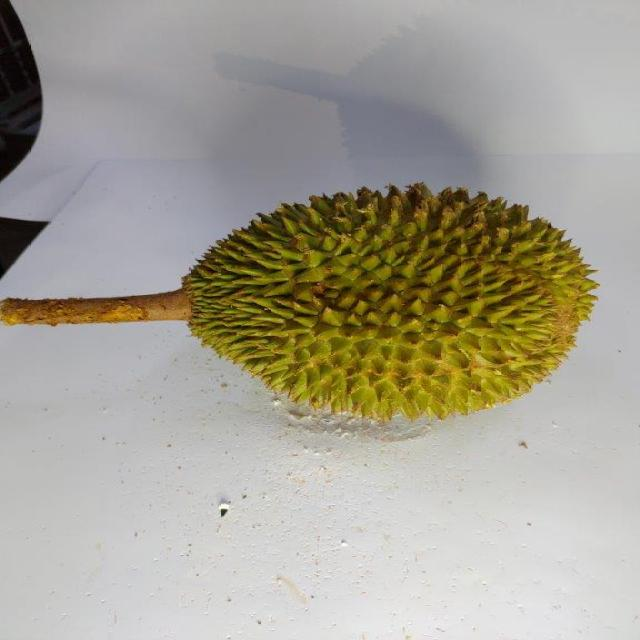immature: (178, 178, 605, 426)
